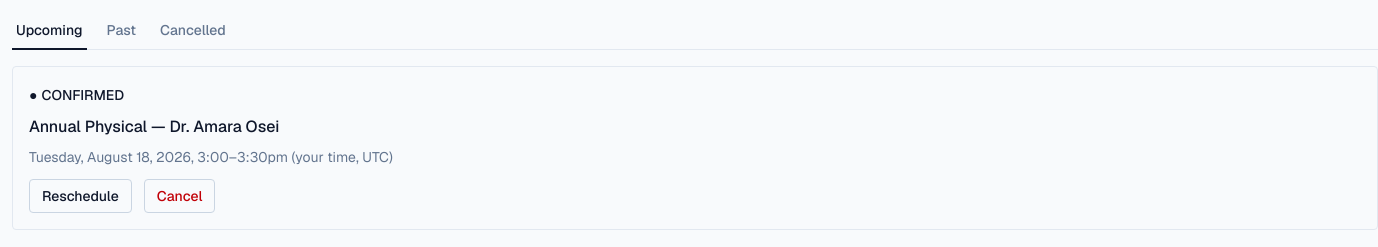
it: PatientAppointments › switches to the Cancelled tab and shows only cancelled bookings, regardless of start time
Expected: the text "Annual Physical — Dr. Amara Osei" is shown, [29,116,279,137]
Step 1. Click the tab "Cancelled" → [193, 31], box [156,12,230,50]
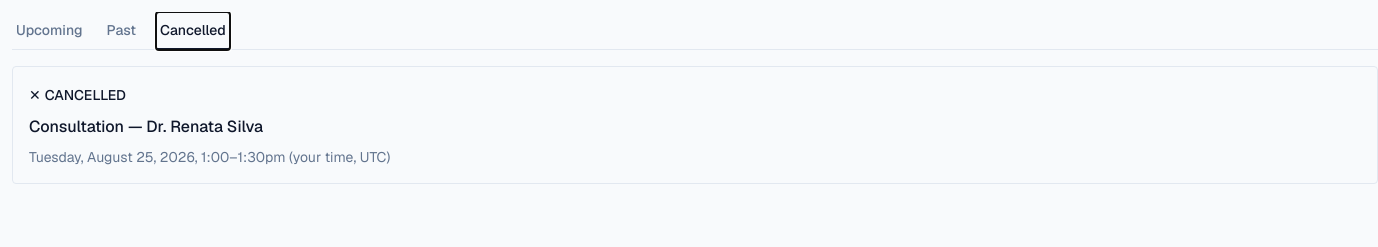
Expected: the text "Consultation — Dr. Renata Silva" is shown, [29,116,263,137]
Expected: the text "CANCELLED" is shown, [45,86,126,104]
Expected: the text "Annual Physical — Dr. Amara Osei" is gone
